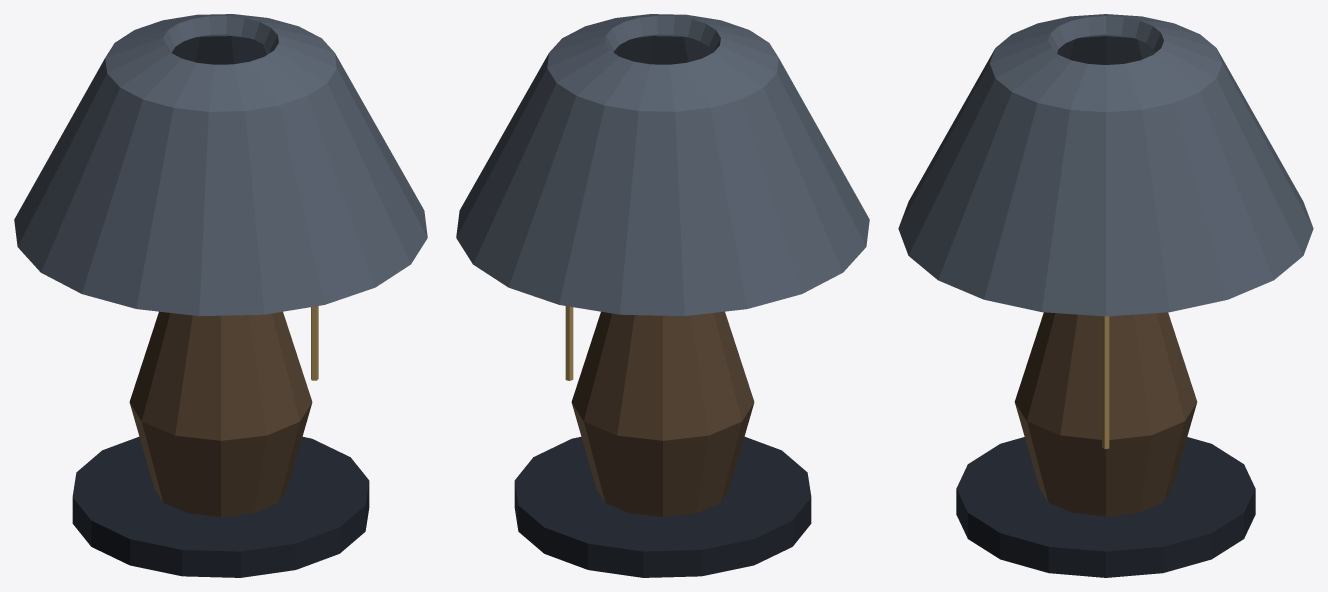
The model's file is res_table_lamp.glb.
3 views of the same model, side by side, from view 1: azimuth 30°, elevation 25°; view 2: azimuth 150°, elevation 25°; view 3: azimuth 270°, elevation 25° (orthographic).
Visible parts, largest first — view 1: opal_shade, sculpted_walnut_stem, lamp_foot, brass_collar; view 2: opal_shade, sculpted_walnut_stem, lamp_foot, brass_collar; view 3: opal_shade, sculpted_walnut_stem, lamp_foot, brass_collar.
Part boxes in pixels (x1,y1,x2,y2): opal_shade: (14,14,427,316); sculpted_walnut_stem: (129,311,312,516); lamp_foot: (72,437,369,577); brass_collar: (311,306,318,380); opal_shade: (456,14,869,316); sculpted_walnut_stem: (571,311,754,516); lamp_foot: (514,437,811,577); brass_collar: (565,306,573,380); opal_shade: (898,14,1313,316); sculpted_walnut_stem: (1014,312,1197,516); lamp_foot: (956,437,1255,577); brass_collar: (1102,316,1109,448).
Bounding box in the file's own units: 0.5 × 0.63 × 0.5.
